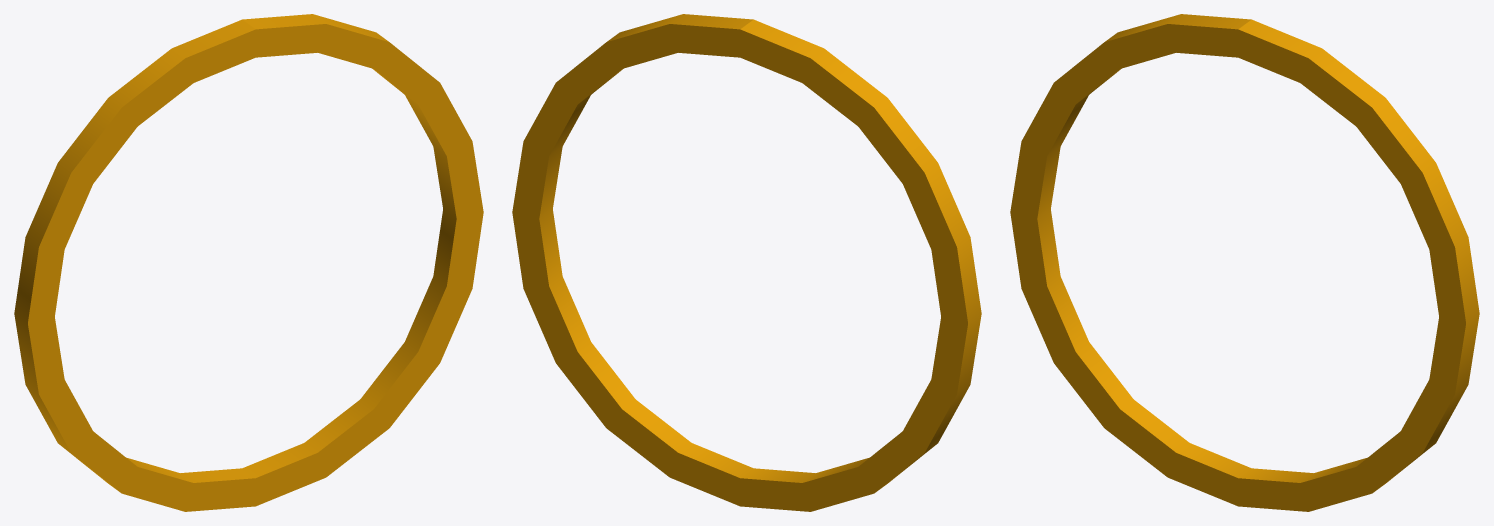
The model's file is L_Rope_A_05.fbx.
The picture shows the model from 3 angles, left to right: view 1: azimuth 30°, elevation 25°; view 2: azimuth 150°, elevation 25°; view 3: azimuth 330°, elevation 25°; orthographic projection.
Visible parts, largest first — view 1: L_Rope_A_05; view 2: L_Rope_A_05; view 3: L_Rope_A_05.
Part boxes in pixels (x1=…): L_Rope_A_05: x1=14, y1=14, x2=483, y2=511; L_Rope_A_05: x1=512, y1=14, x2=981, y2=511; L_Rope_A_05: x1=1010, y1=14, x2=1479, y2=511.
Size of the model in its own units: 141 by 141 by 7.22.
